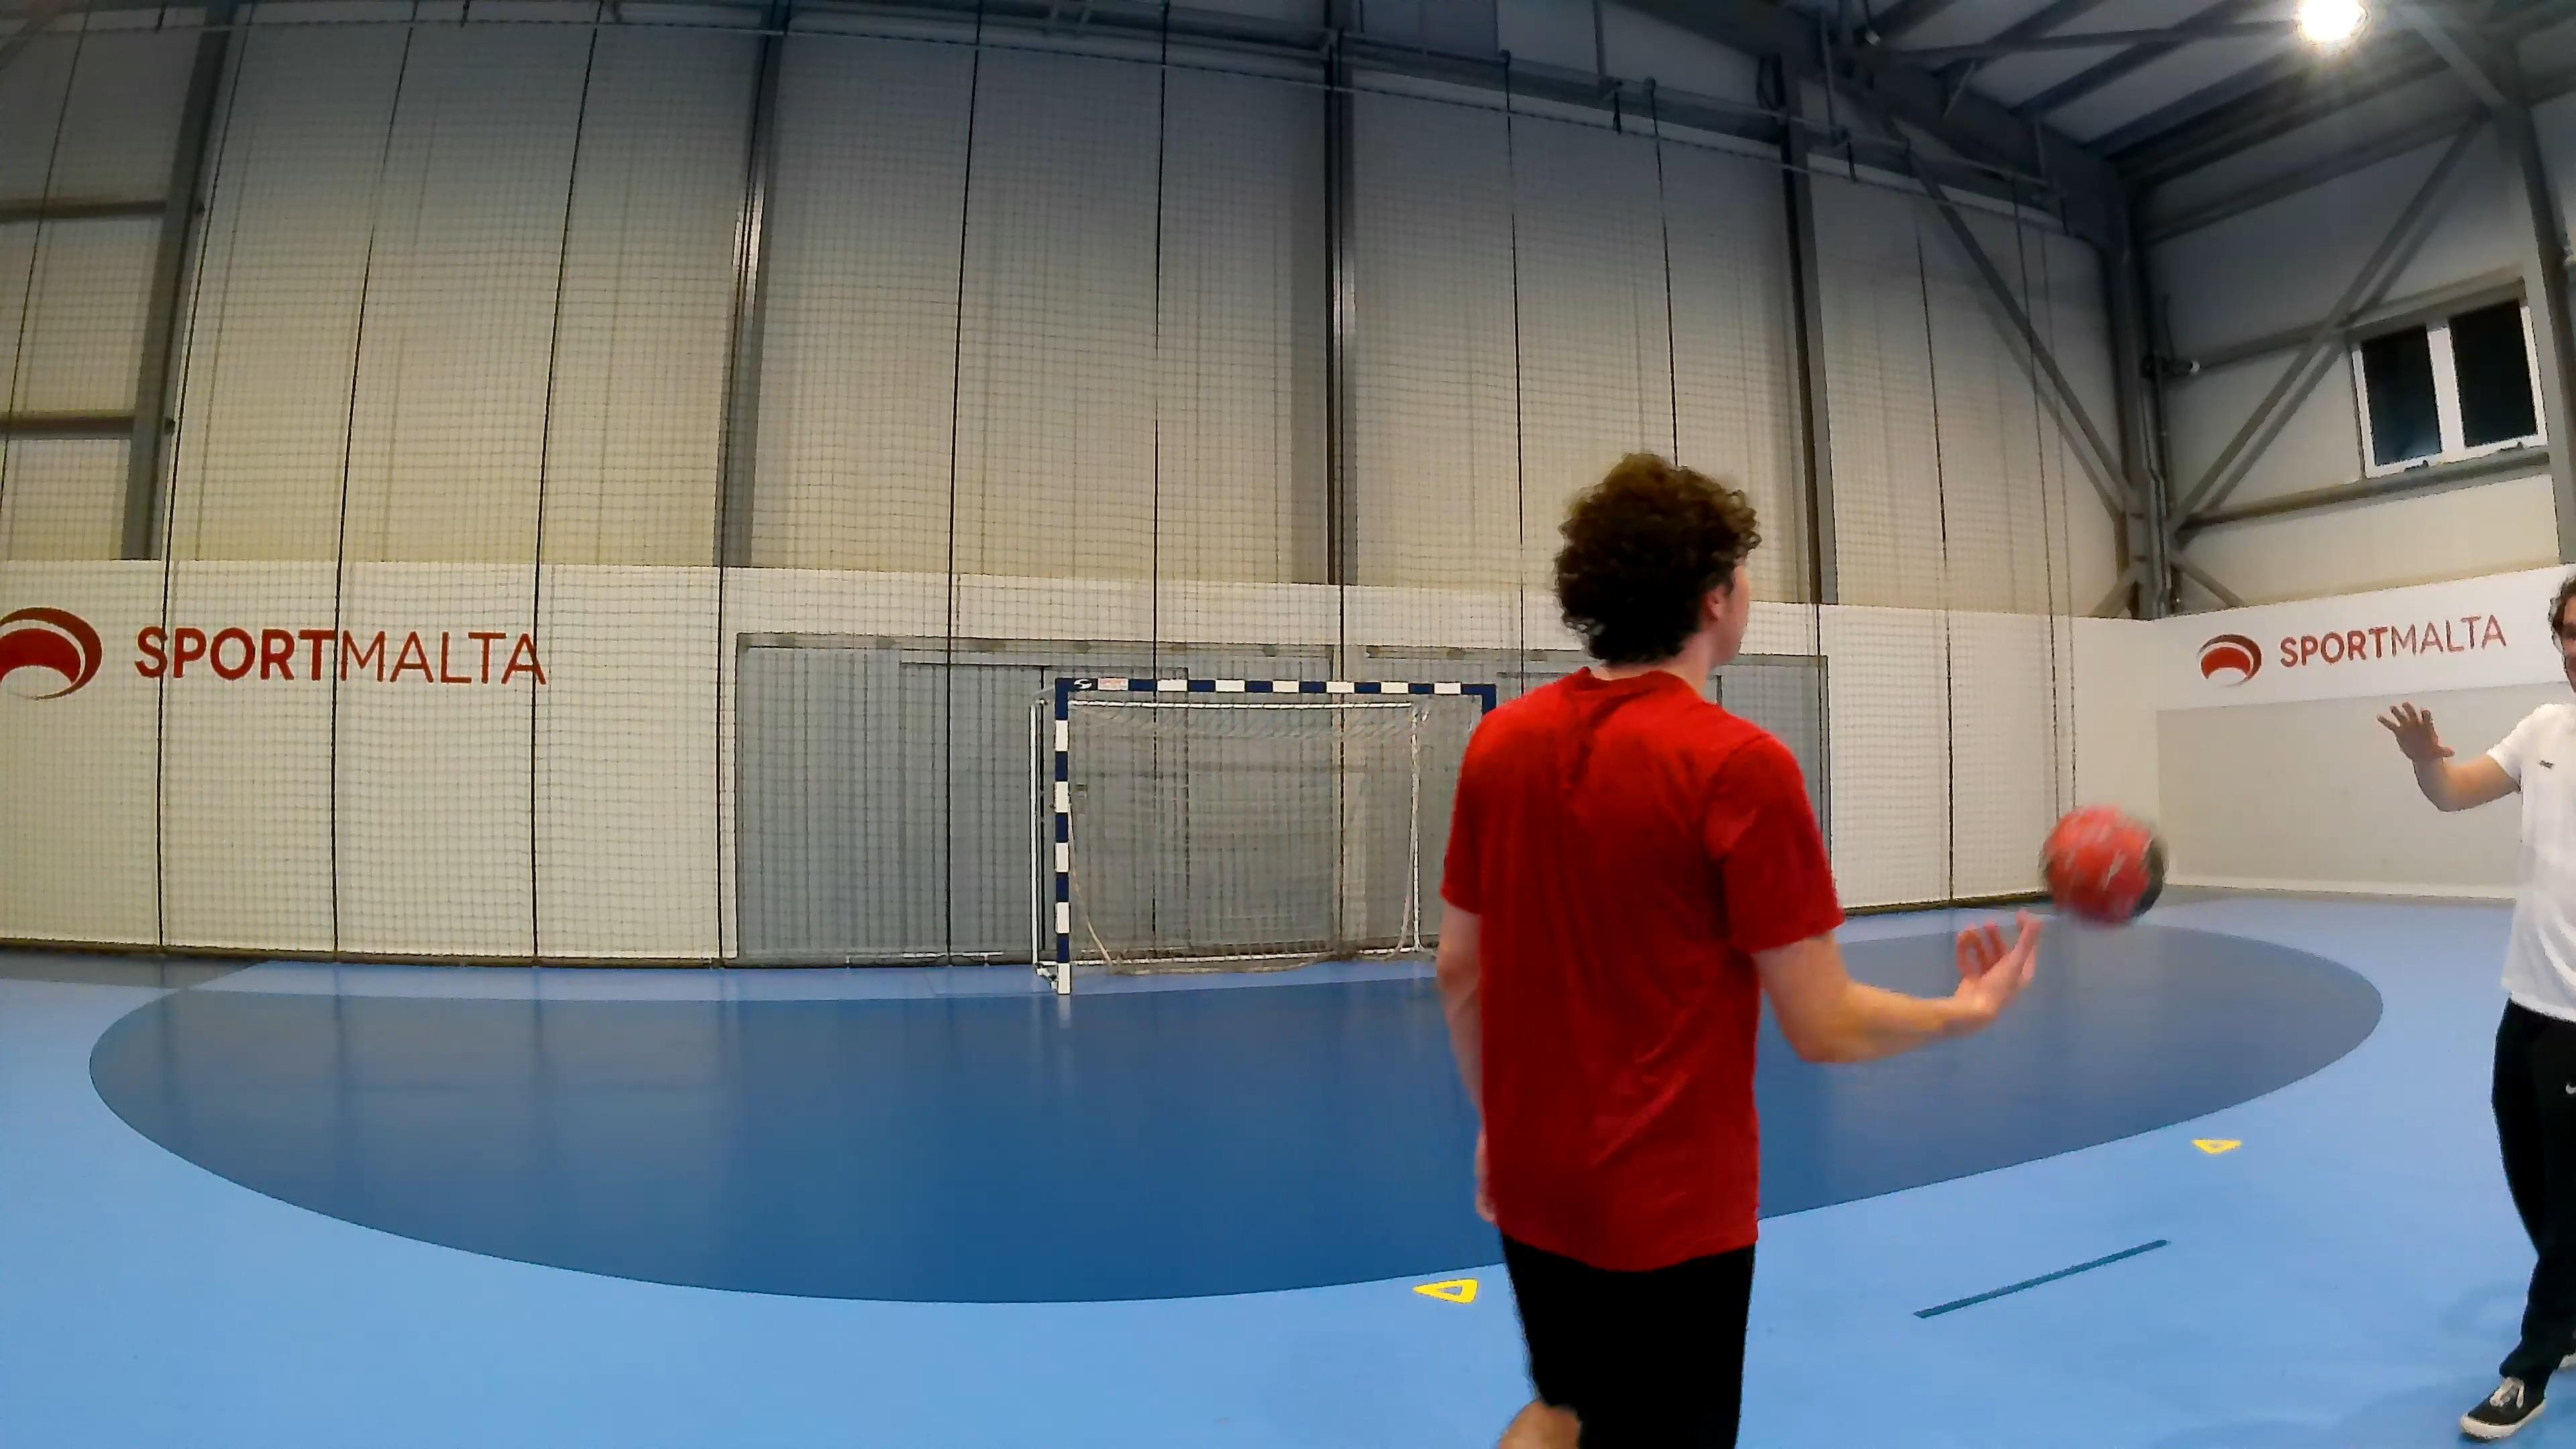handball: (2038, 801, 2166, 924)
